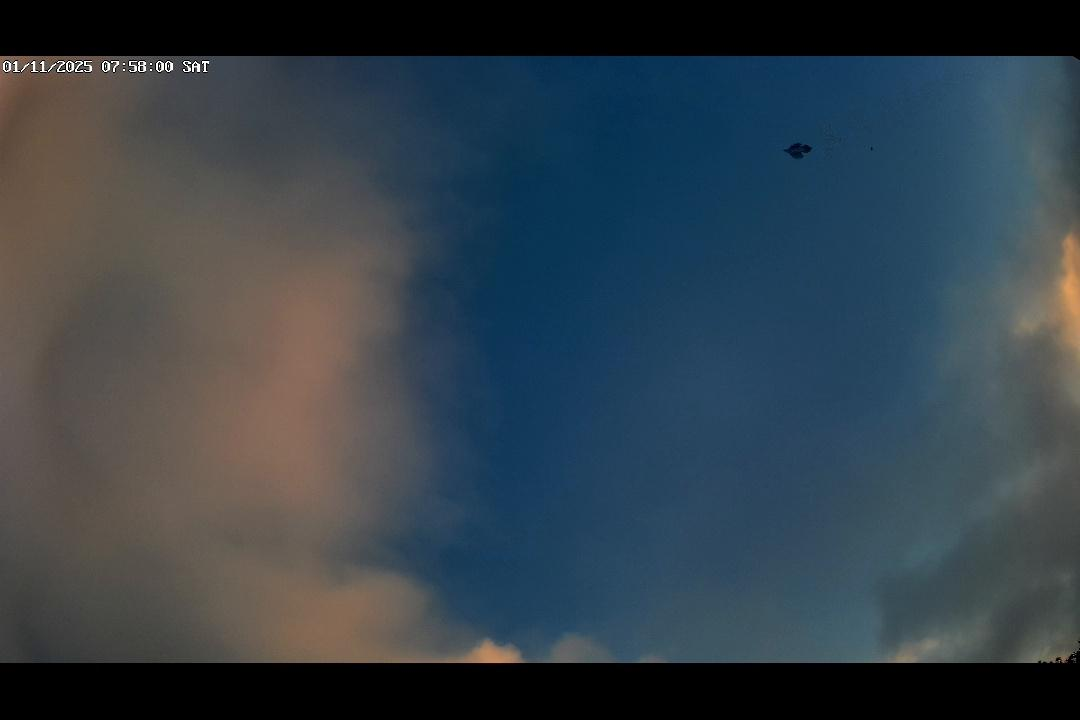WildLife: (765, 138, 827, 165), (867, 143, 876, 153)
